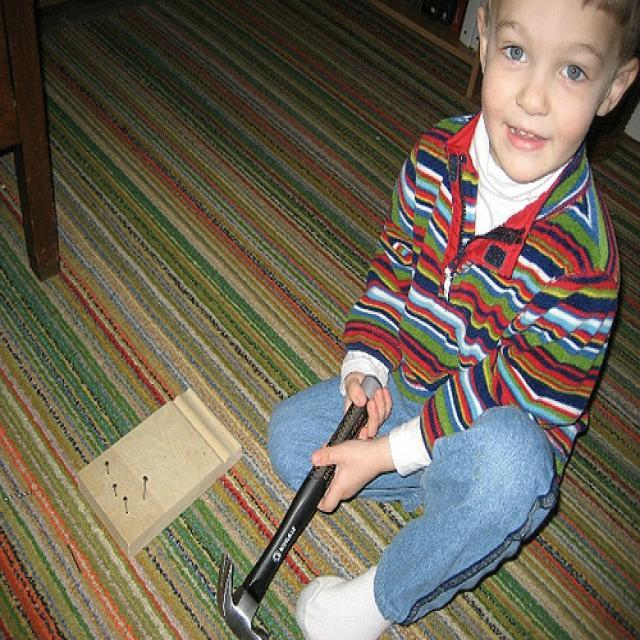hammer: (206, 367, 390, 640)
